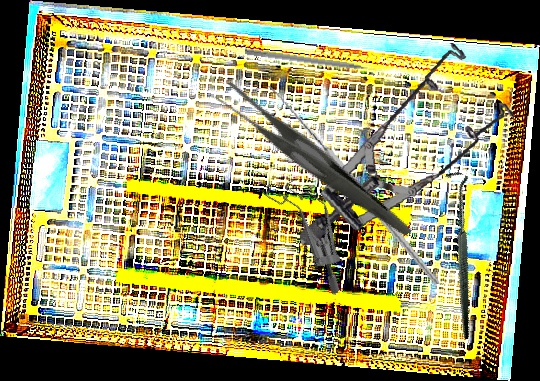Dressing Forceps: (211, 43, 414, 282)
Hook Surgical: (255, 62, 442, 310), (385, 167, 532, 340)
Pusher: (244, 48, 385, 76)
Speculum: (273, 35, 529, 246), (236, 166, 378, 298)
